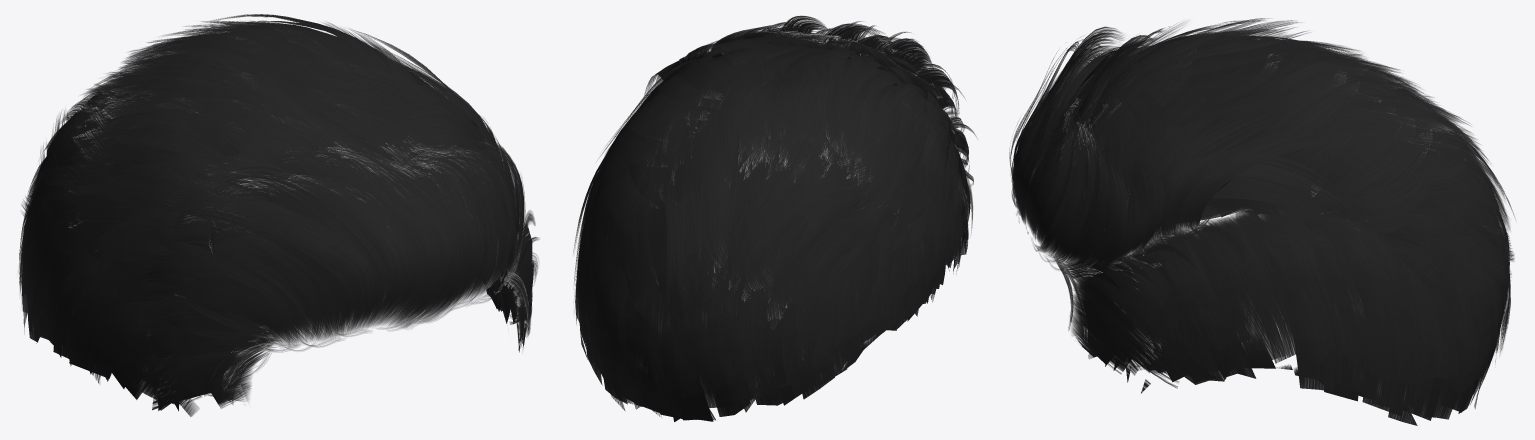
The model's file is Oval_Straight_03.glb.
3 renders of one model, left to right at view 1: azimuth 30°, elevation 25°; view 2: azimuth 150°, elevation 25°; view 3: azimuth 270°, elevation 25°, orthographic. The views are drawn at different scales.
Parts seen in each view (by area): view 1: oval straight 03 textured quiff; view 2: oval straight 03 textured quiff; view 3: oval straight 03 textured quiff.
Part boxes in pixels (x1,y1,x2,y2): oval straight 03 textured quiff: (18,14,539,416); oval straight 03 textured quiff: (573,15,977,421); oval straight 03 textured quiff: (1009,18,1515,425).
Bounding box in the file's own units: 0.1929 × 0.1695 × 0.2326.
1 material, 1 textured.
